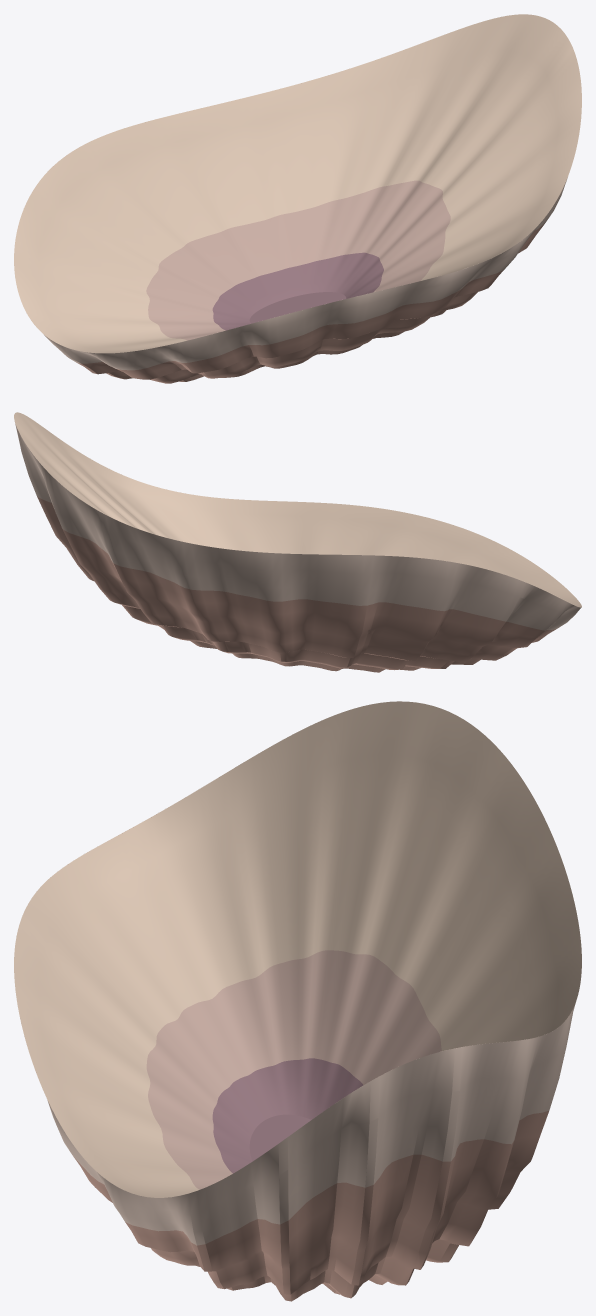
The model's file is littoral-keel-shell.glb.
3 views of the same model, one above another, from view 1: azimuth 30°, elevation 25°; view 2: azimuth 150°, elevation 25°; view 3: azimuth 270°, elevation 25° (orthographic). The views are drawn at different scales.
Visible parts, largest first — view 1: continuous_open_keel_shell; view 2: continuous_open_keel_shell; view 3: continuous_open_keel_shell.
Boxes of the visible parts, left/top/right/bottom form: continuous_open_keel_shell: left=14, top=14, right=581, bottom=383; continuous_open_keel_shell: left=14, top=412, right=581, bottom=672; continuous_open_keel_shell: left=14, top=701, right=581, bottom=1301.
Bounding box in the file's own units: 218 × 75.31 × 107.
